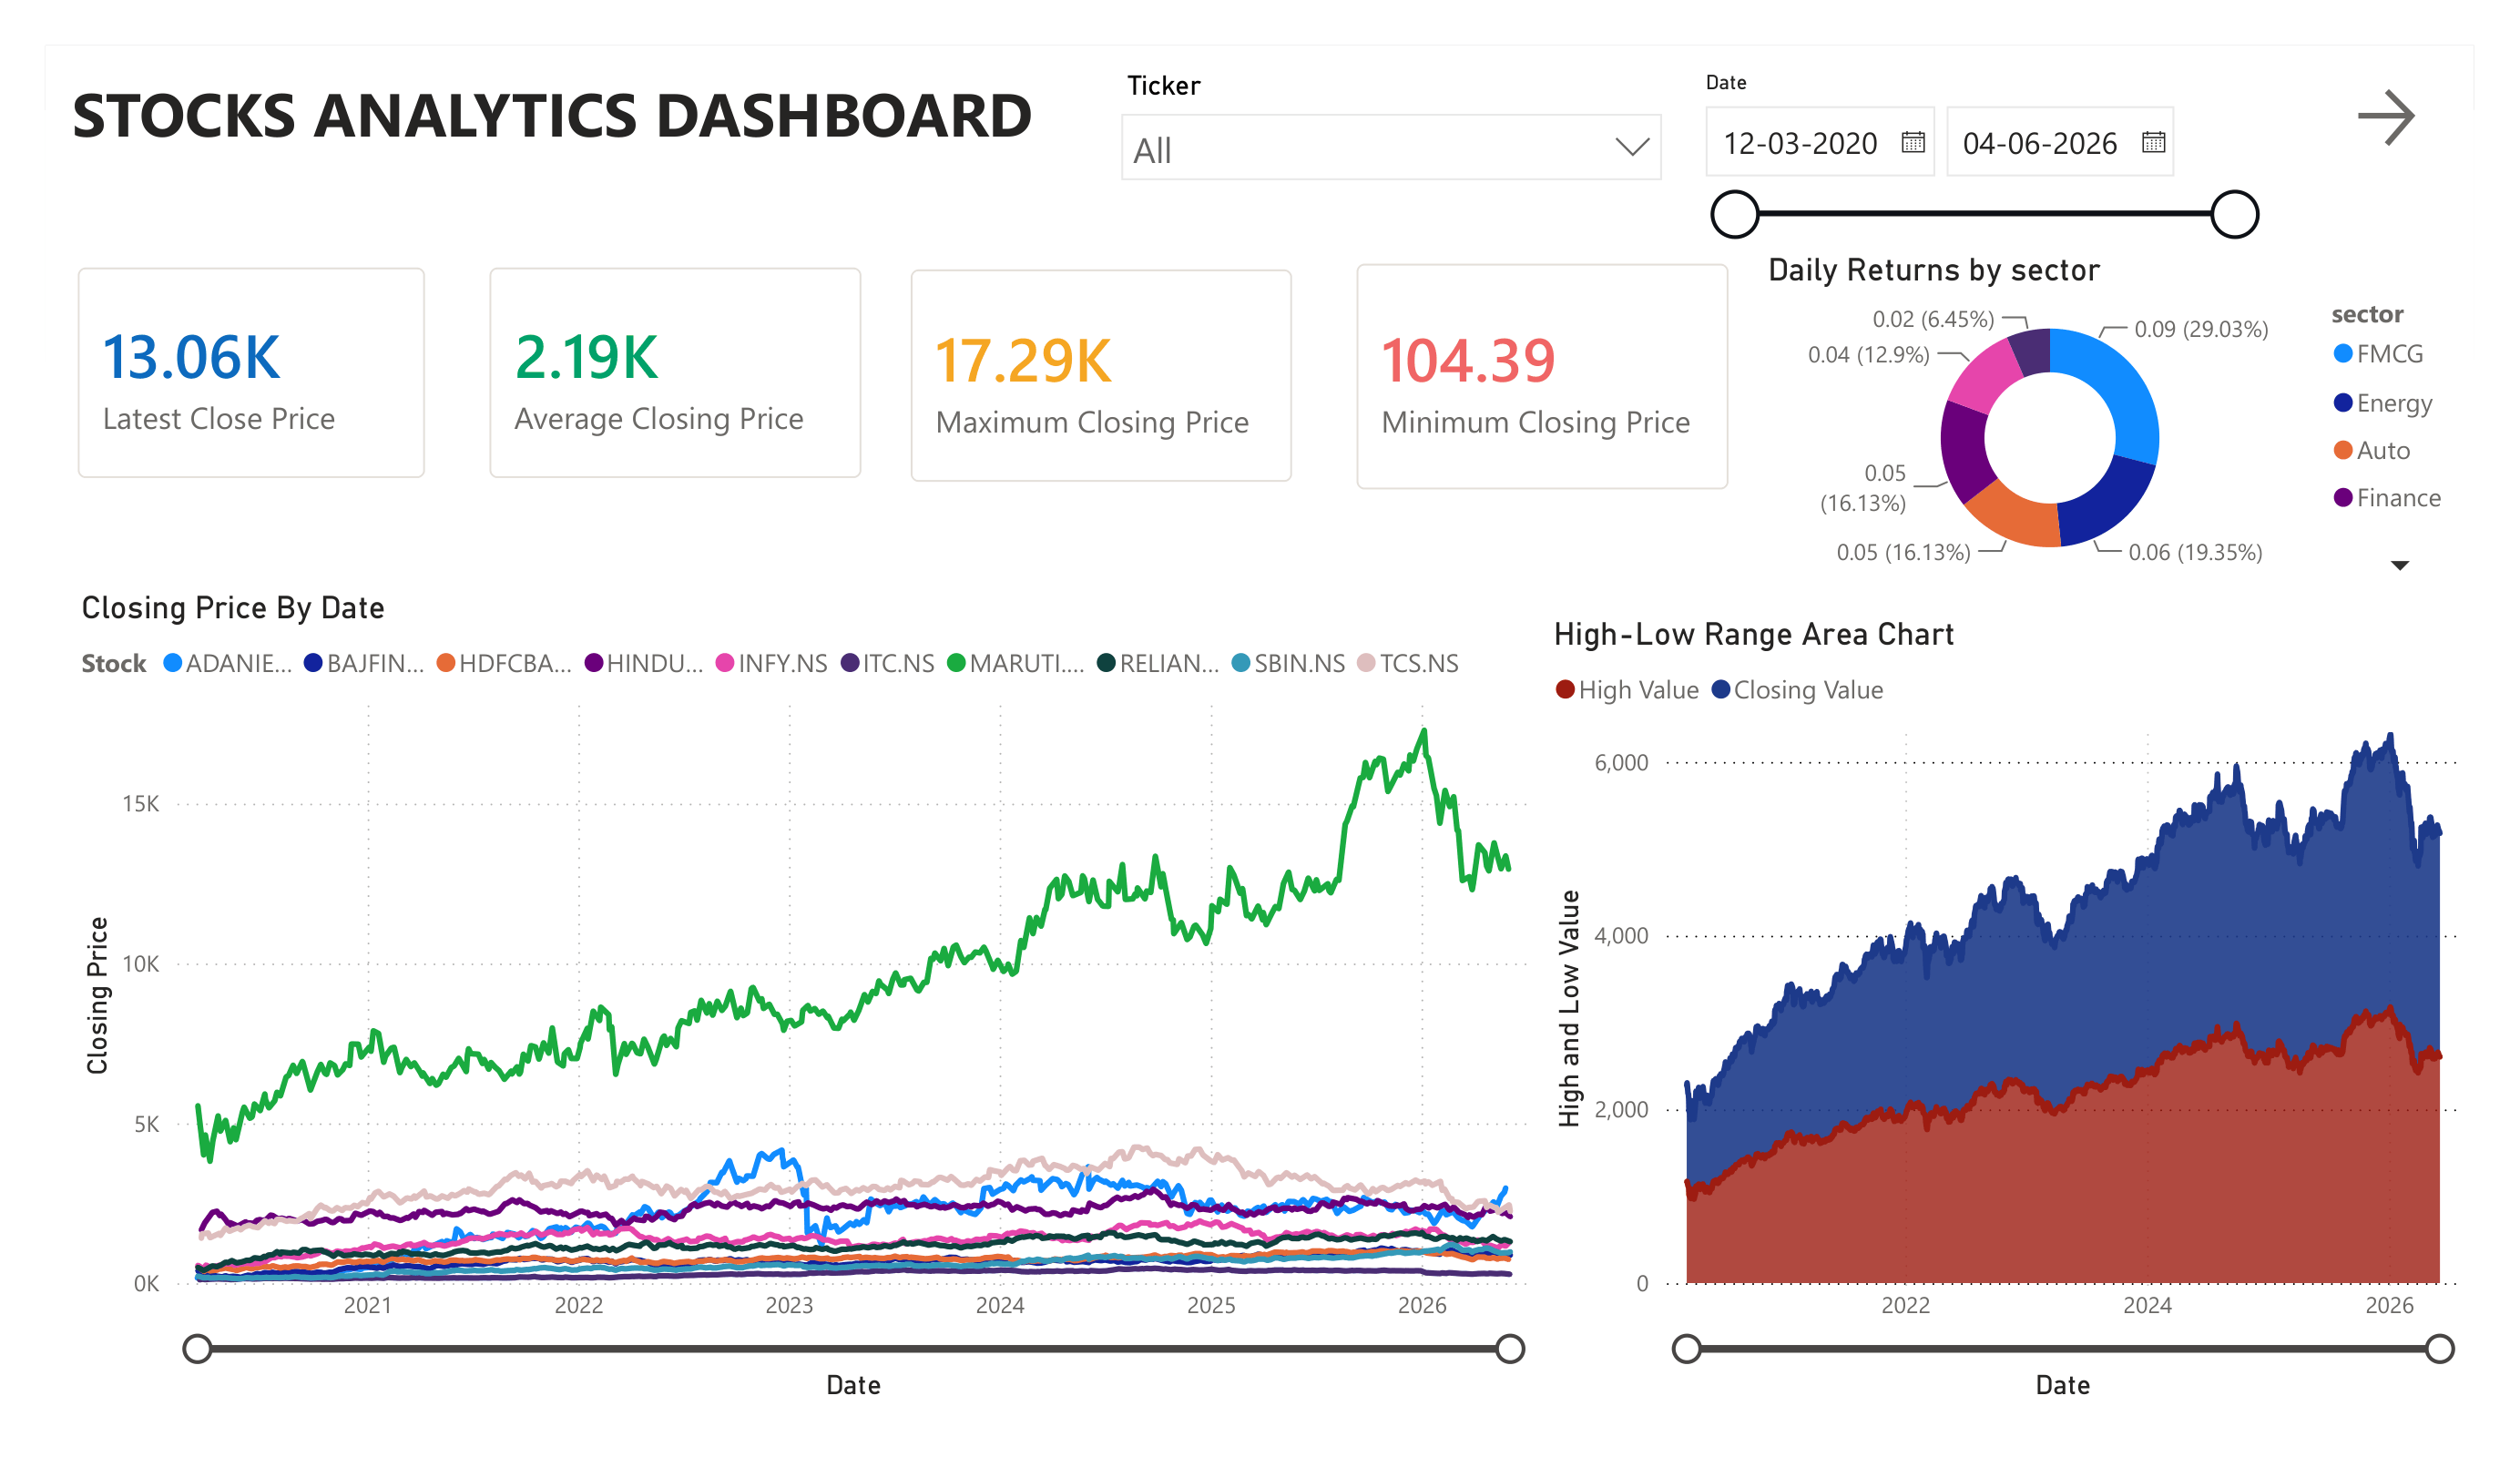

This screenshot's page, from the dashboard's own definition file:
{"tool":"powerbi","page":{"name":"INTRODUCTION","canvas":[1280,720],"ordinal":0},"visuals":[{"type":"textbox","box":[0,8.3,556.7,85],"z":0},{"type":"lineChart","title":"Closing Price By Date","fields":{"Y":["Avg(enriched_stocks (2).close)"],"Series":["enriched_stocks (2).ticker"],"Category":["enriched_stocks (2).date"]},"box":[13.6,286.2,776.8,433.1],"z":1000},{"type":"cardVisual","fields":{"Data":["Avg(enriched_stocks (2).close)"]},"box":[216.5,99.9,230.2,145.4],"z":2000},{"type":"cardVisual","fields":{"Data":["Max(enriched_stocks (2).close)"]},"box":[439.1,101.5,234.7,145.4],"z":3000},{"type":"cardVisual","fields":{"Data":["Min(enriched_stocks (2).close)"]},"box":[673.8,98.4,230.2,152.9],"z":4000},{"type":"stackedAreaChart","title":"High-Low Range Area Chart","fields":{"Y":["Avg(enriched_stocks (2).high)","Avg(enriched_stocks (2).close)"],"Category":["enriched_stocks (2).date"]},"box":[790.4,299.8,489.1,419.4],"z":5000},{"type":"slicer","fields":{"Values":["enriched_stocks (2).date"]},"box":[861.7,8.3,313.3,100],"z":6000},{"type":"slicer","fields":{"Values":["enriched_stocks (2).ticker"]},"box":[557.2,7.6,304.4,99.9],"z":7000},{"type":"cardVisual","fields":{"Data":["enriched_stocks (2).Latest Close Price"]},"box":[0,99.9,216.5,145.4],"z":8000},{"type":"donutChart","title":"Daily Returns  by sector","fields":{"Y":["Sum(stock_analytics vw_sector_avg_return.avg_return)"],"Category":["stock_analytics vw_sector_avg_return.sector"]},"box":[903.3,108.3,376.7,178.3],"z":9000},{"type":"actionButton","box":[1213.3,18.3,66.7,40],"z":10000}]}

Visuals, with their boxes on the page's 1280x720 design canvas (x1, y1, x2, y2). These are canvas units, not pixel positions in the 2520x1457 screenshot, which may show the page scaled, cropped or inside an application window:
textbox: [0, 8, 557, 93]
"Closing Price By Date" lineChart: [14, 286, 790, 719]
cardVisual - Avg(enriched_stocks (2).close): [216, 100, 447, 245]
cardVisual - Max(enriched_stocks (2).close): [439, 102, 674, 247]
cardVisual - Min(enriched_stocks (2).close): [674, 98, 904, 251]
"High-Low Range Area Chart" stackedAreaChart: [790, 300, 1280, 719]
slicer - enriched_stocks (2).date: [862, 8, 1175, 108]
slicer - enriched_stocks (2).ticker: [557, 8, 862, 108]
cardVisual - enriched_stocks (2).Latest Close Price: [0, 100, 216, 245]
"Daily Returns  by sector" donutChart: [903, 108, 1280, 287]
actionButton: [1213, 18, 1280, 58]
